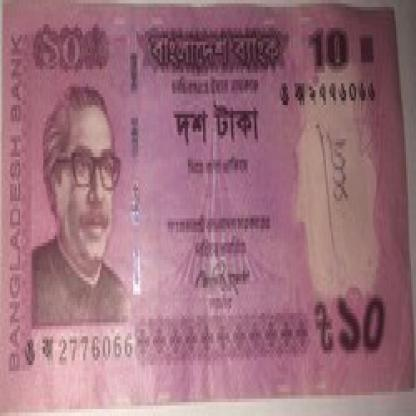Ten Taka: (334, 284, 390, 354), (305, 17, 351, 80), (38, 21, 87, 80)
